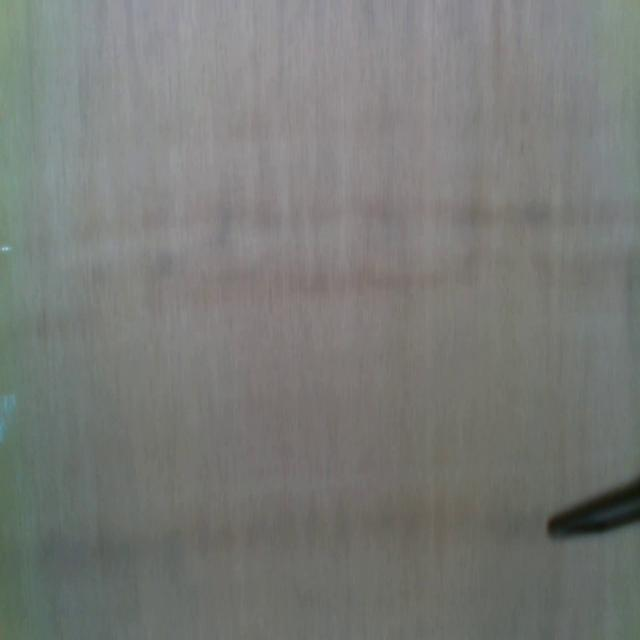color bleeding: (13, 250, 639, 347), (32, 496, 544, 572), (78, 190, 640, 235)
